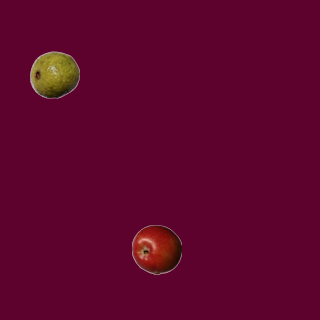Apple Braeburn: (131, 224, 181, 274)
Guava: (29, 49, 79, 99)
